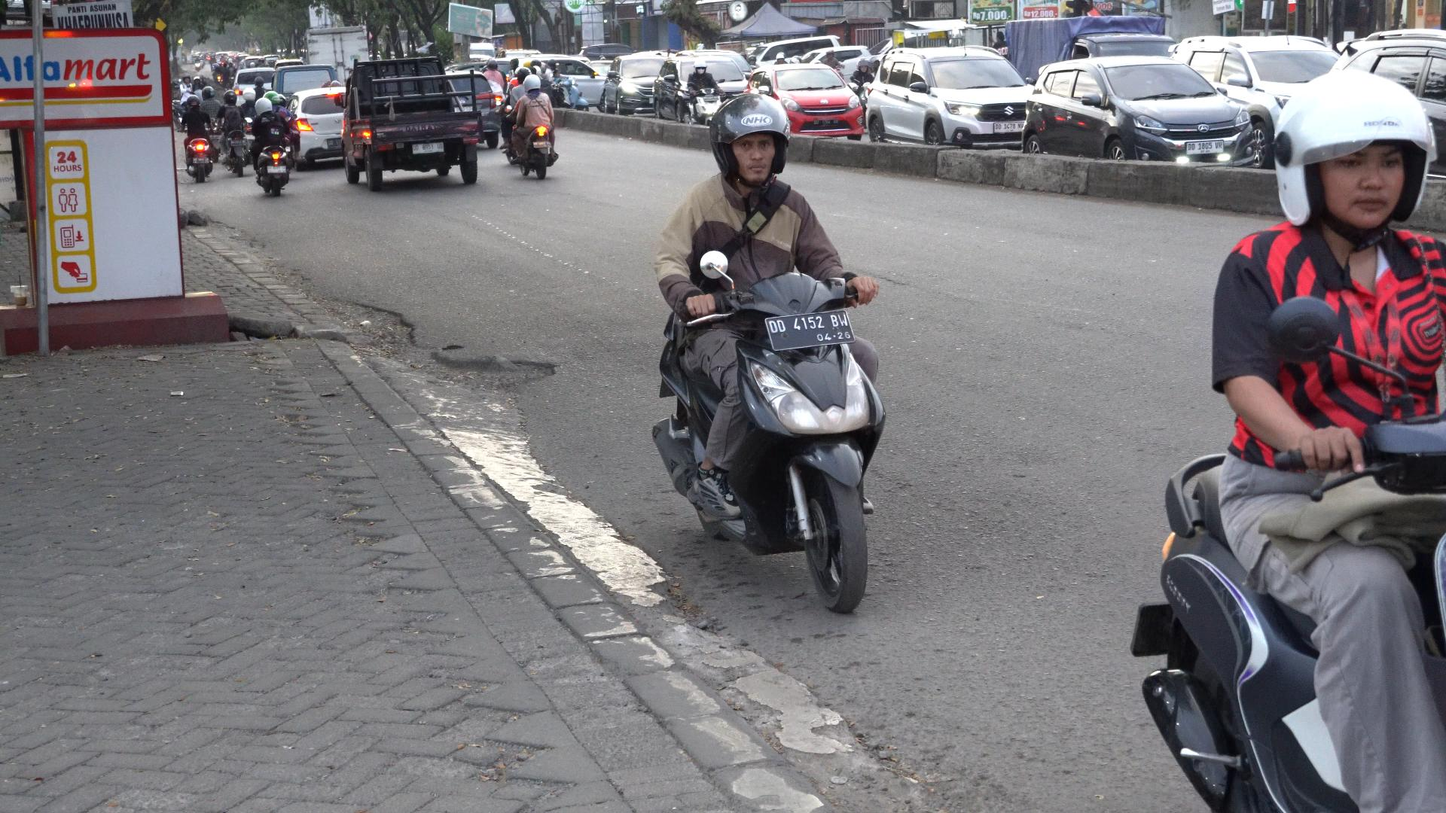number-plate: (762, 319, 858, 349)
